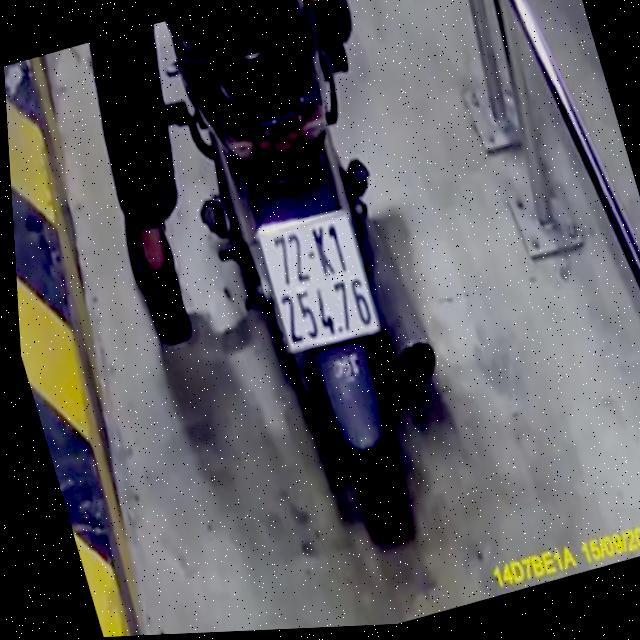motorcycle: (131, 0, 498, 556)
plate: (245, 199, 385, 364)
